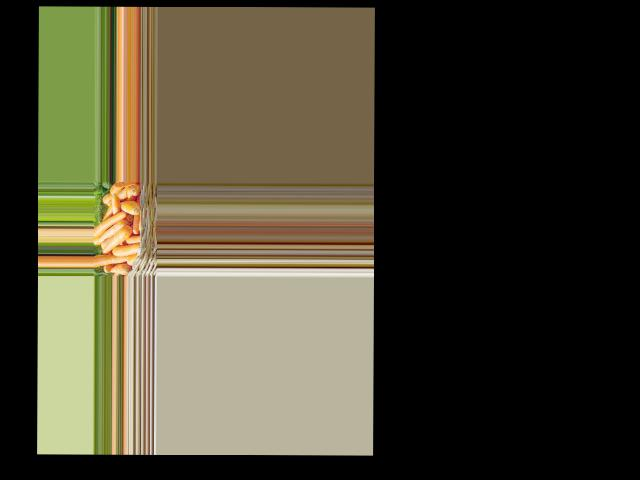carrot: (129, 185, 141, 195)
